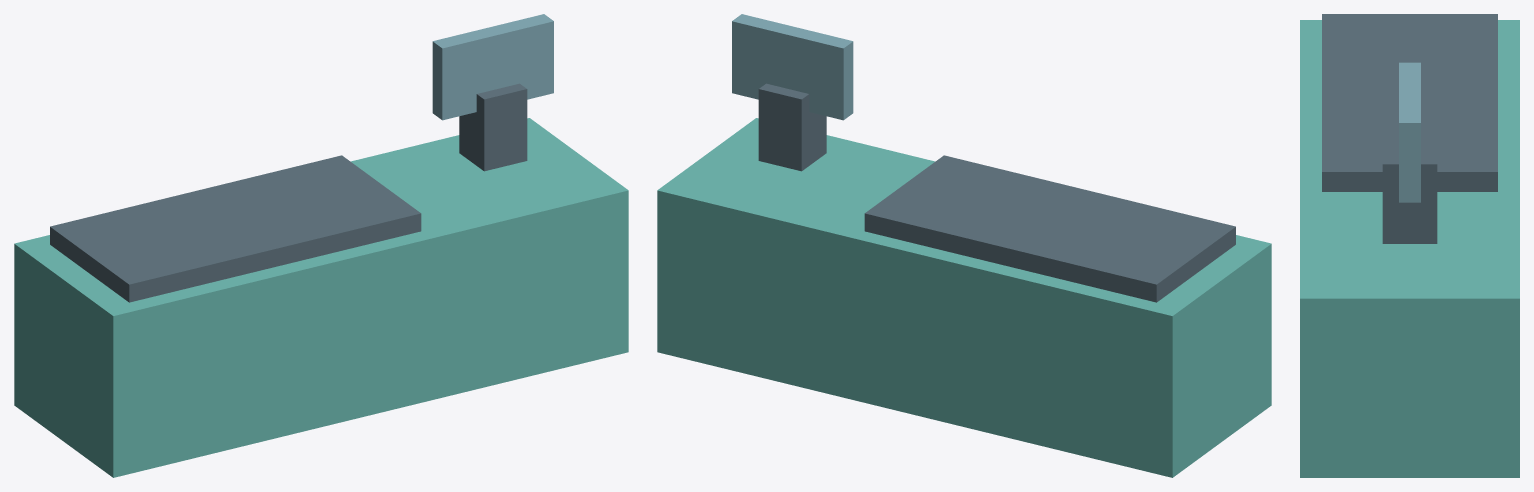
File: voxel-city-districts-checkout-counter-39dabafe__24874.glb
The picture shows the model from 3 angles, left to right: view 1: azimuth 30°, elevation 25°; view 2: azimuth 150°, elevation 25°; view 3: azimuth 270°, elevation 25°; orthographic projection. The views are drawn at different scales.
Visible parts, largest first — view 1: checkout-counter-accent, checkout-counter-dark, checkout-counter-glass; view 2: checkout-counter-accent, checkout-counter-dark, checkout-counter-glass; view 3: checkout-counter-accent, checkout-counter-dark, checkout-counter-glass.
Part boxes in pixels (box(x1,y1,x2,y2)): checkout-counter-accent: box(14, 118, 628, 477); checkout-counter-dark: box(50, 83, 527, 302); checkout-counter-glass: box(432, 14, 553, 120); checkout-counter-accent: box(657, 118, 1271, 477); checkout-counter-dark: box(758, 83, 1235, 302); checkout-counter-glass: box(732, 14, 853, 120); checkout-counter-accent: box(1300, 20, 1519, 477); checkout-counter-dark: box(1322, 14, 1497, 243); checkout-counter-glass: box(1399, 62, 1420, 202).
Bounding box in the file's own units: 3 × 1.7 × 0.9999.
